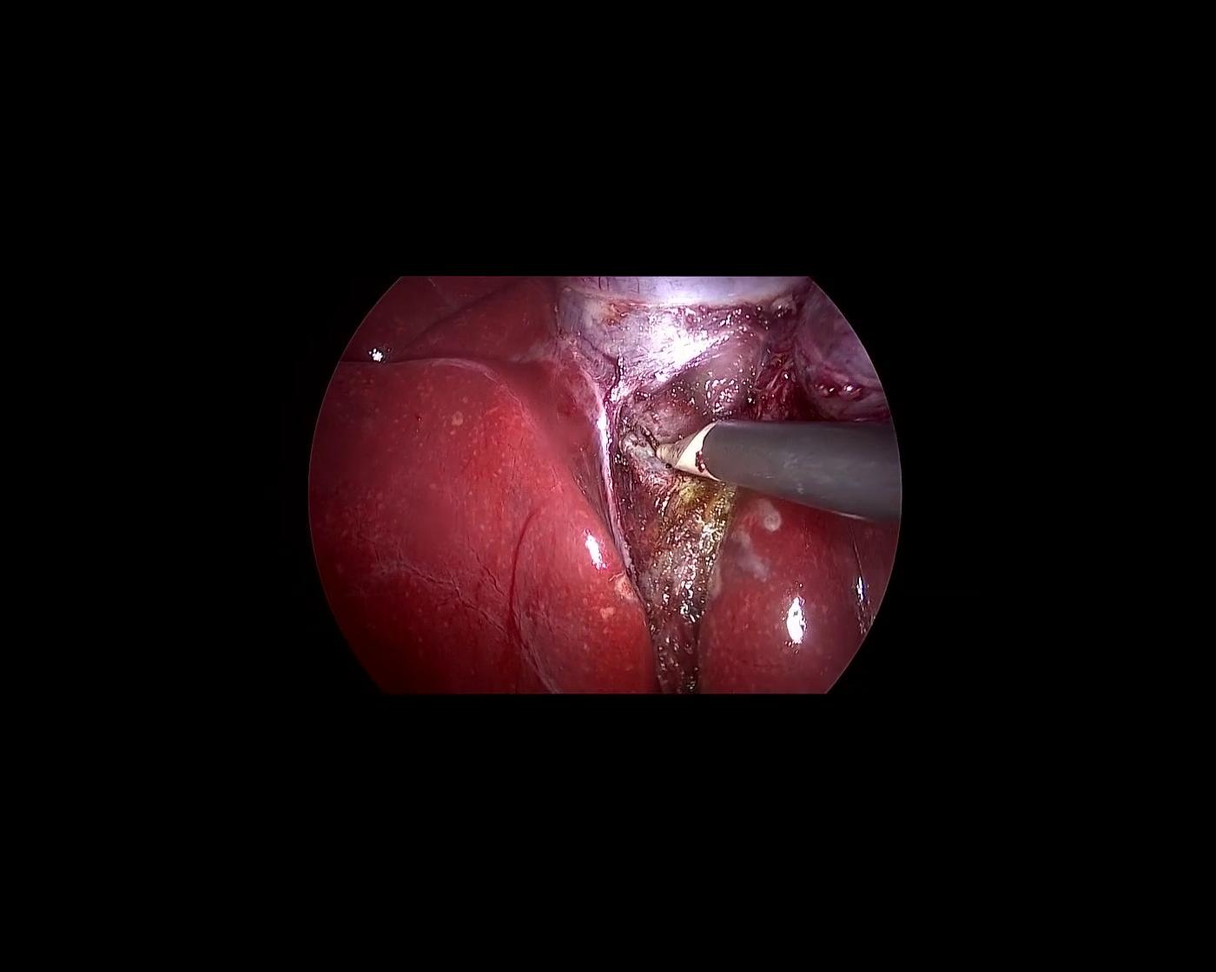Cautery: (633, 413, 903, 517)
Gallbladder: (556, 280, 887, 424)
Liver: (263, 244, 659, 754), (692, 493, 896, 722)
